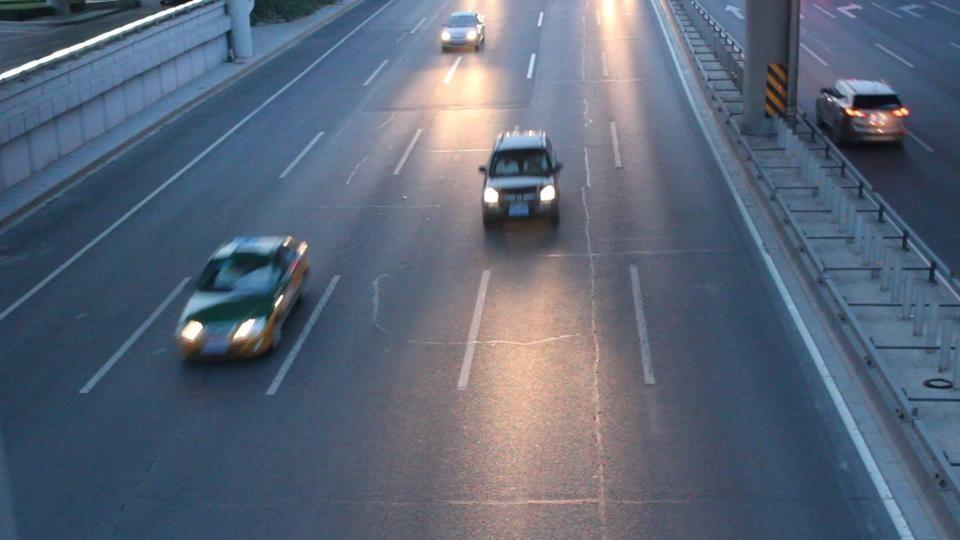car: (173, 235, 311, 363), (479, 130, 563, 229), (815, 78, 911, 147), (440, 11, 486, 54)
